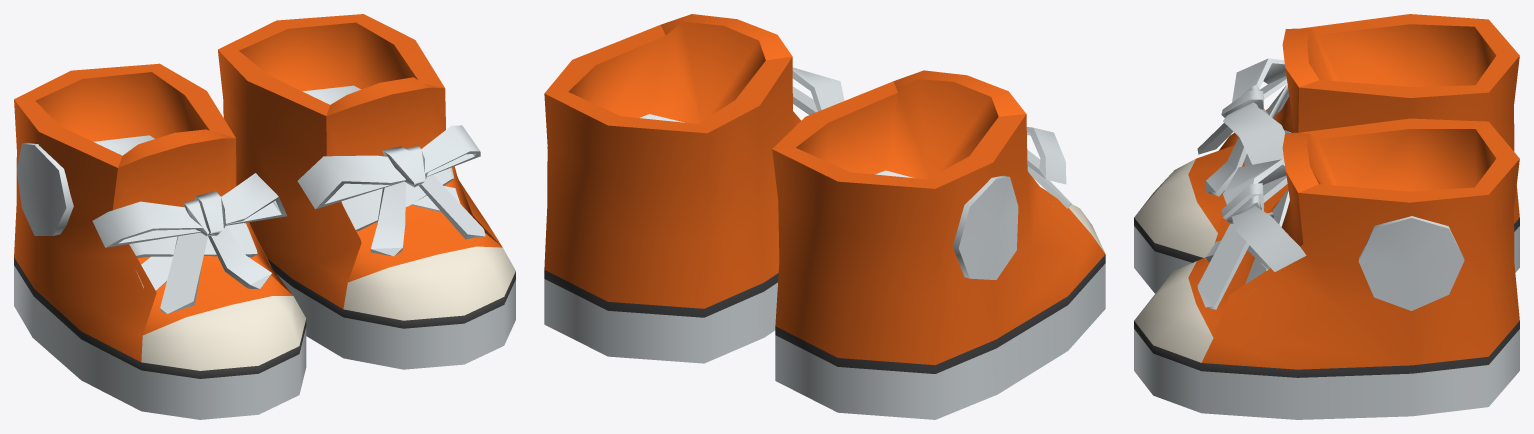
File: Shoes_4.fbx
3 views of the same model, side by side, from view 1: azimuth 30°, elevation 25°; view 2: azimuth 150°, elevation 25°; view 3: azimuth 270°, elevation 25° (orthographic). The views are drawn at different scales.
Visible parts, largest first — view 1: Shoes_4; view 2: Shoes_4; view 3: Shoes_4.
Boxes of the visible parts, box(x1,y1,x2,y2) form: Shoes_4: box(14, 14, 515, 419); Shoes_4: box(544, 14, 1105, 419); Shoes_4: box(1134, 14, 1519, 419).
Size of the model in its own units: 39.4 by 20.66 by 31.94.
